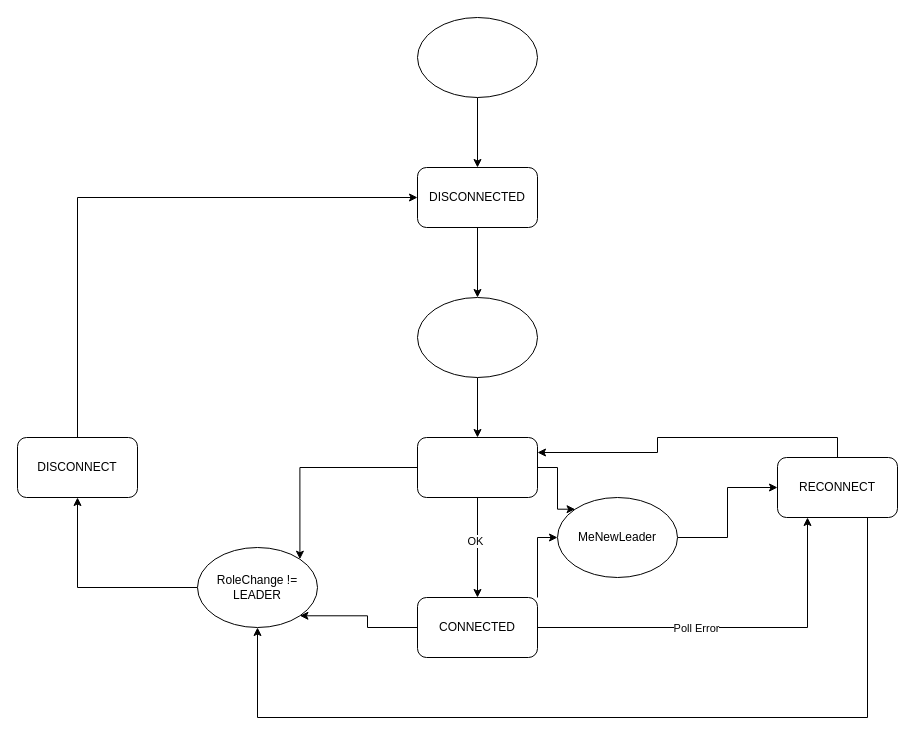
Some shapes in this 915 by 743 pixel diagram are drawn without their labels. Each missing label, with the box of its shape:
CONNECT: (416, 436, 538, 498)
RoleChange == LEADER: (416, 296, 538, 378)
START: (416, 16, 538, 98)
